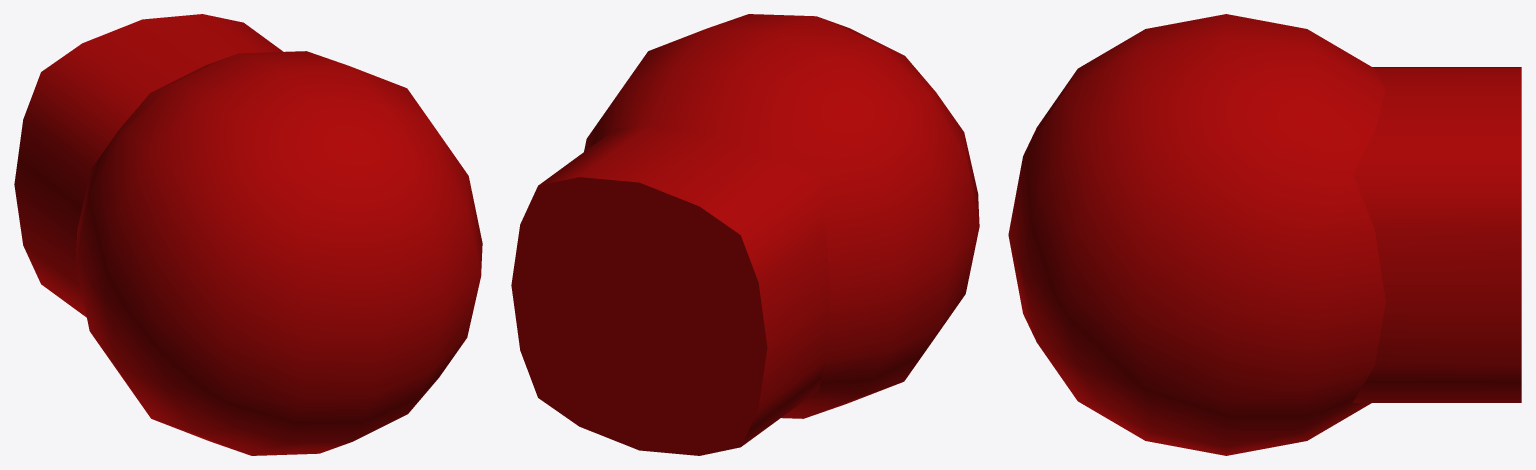
Rendered from glove_only_red.fbx.
3 views of the same model, side by side, from view 1: azimuth 30°, elevation 25°; view 2: azimuth 150°, elevation 25°; view 3: azimuth 270°, elevation 25° (orthographic). The views are drawn at different scales.
Visible parts, largest first — view 1: glove_only; view 2: glove_only; view 3: glove_only.
Part boxes in pixels (box(x1,y1,x2,y2)): glove_only: box(14, 14, 482, 455); glove_only: box(511, 14, 979, 455); glove_only: box(1008, 14, 1521, 455).
Bounding box in the file's own units: 0.3926 × 0.3926 × 0.4623.
